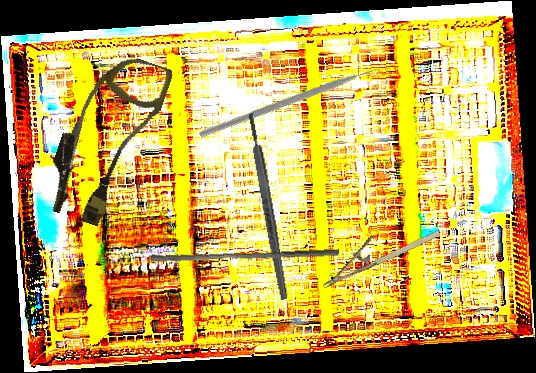Cannula: (37, 43, 175, 234)
Chopper: (198, 4, 393, 207)
Needle Holder: (312, 211, 442, 289)
Pusher: (150, 241, 340, 269)
Scalpel Handle: (245, 112, 290, 301)
